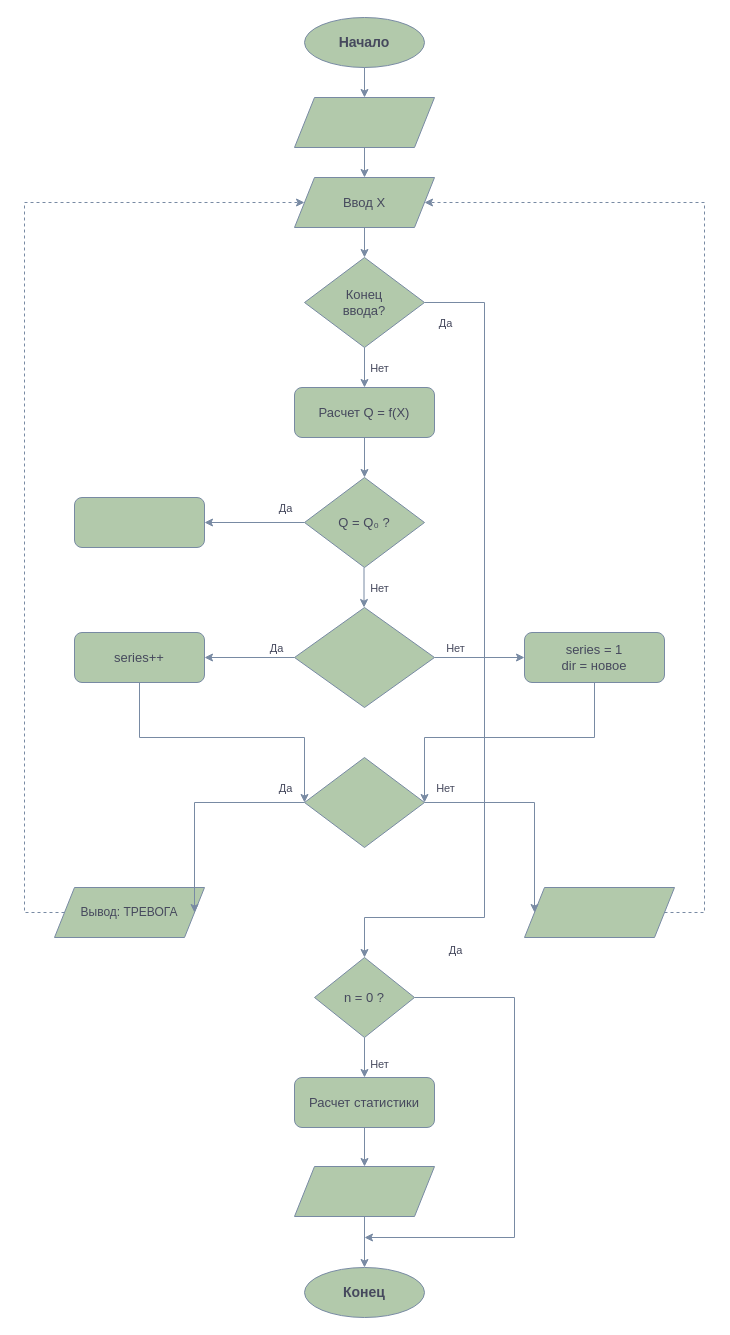
Image size: 730x1335. Some labels were removed from this diagram. Here are the shapes that lost their labels. From the top down, the centre of each, then its label:
At (364,122): "Ввод Q₀".
At (139,522): "series = 0 dir = 0".
At (364,657): "Направление совпадает?".
At (364,802): "series ≥ 4 ?".
At (599,912): "Вывод: НОРМА".
At (364,1191): "Вывод статистики".
